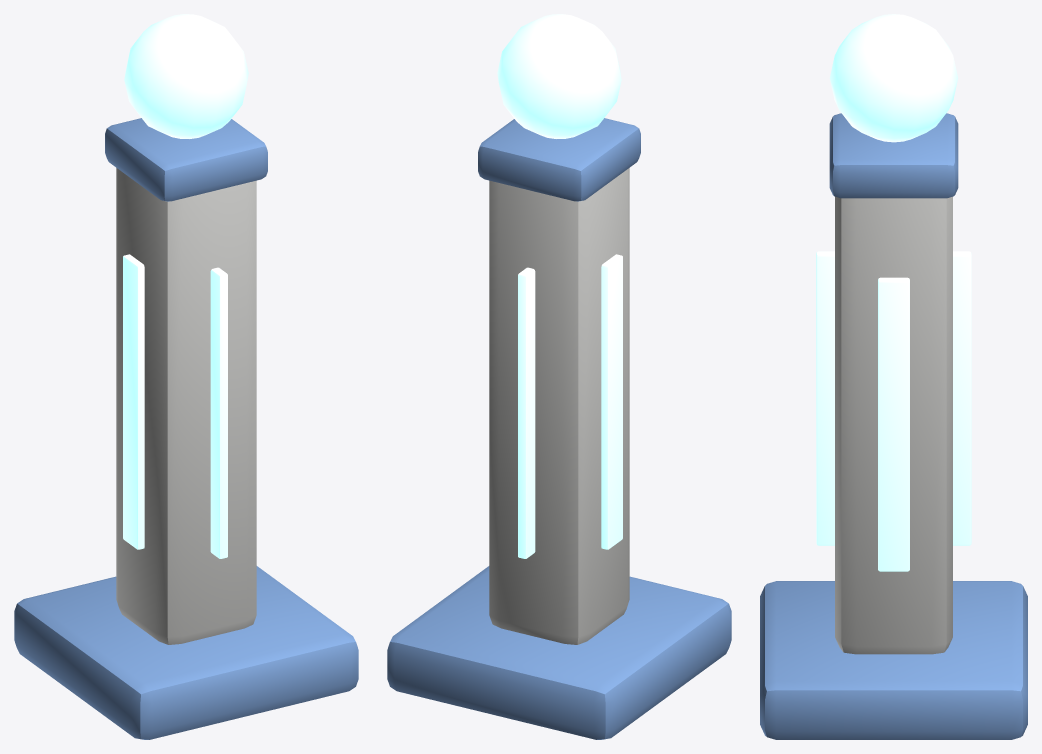
File: guardpost.glb
3 renders of one model, left to right at view 1: azimuth 30°, elevation 25°; view 2: azimuth 150°, elevation 25°; view 3: azimuth 270°, elevation 25°, orthographic. The views are drawn at different scales.
Parts seen in each view (by area): view 1: Body; view 2: Body; view 3: Body.
Part boxes in pixels (x1,y1,x2,y2): Body: (14,14,358,739); Body: (387,14,731,739); Body: (760,14,1027,739).
Bounding box in the file's own units: 0.5 × 1.38 × 0.5.
